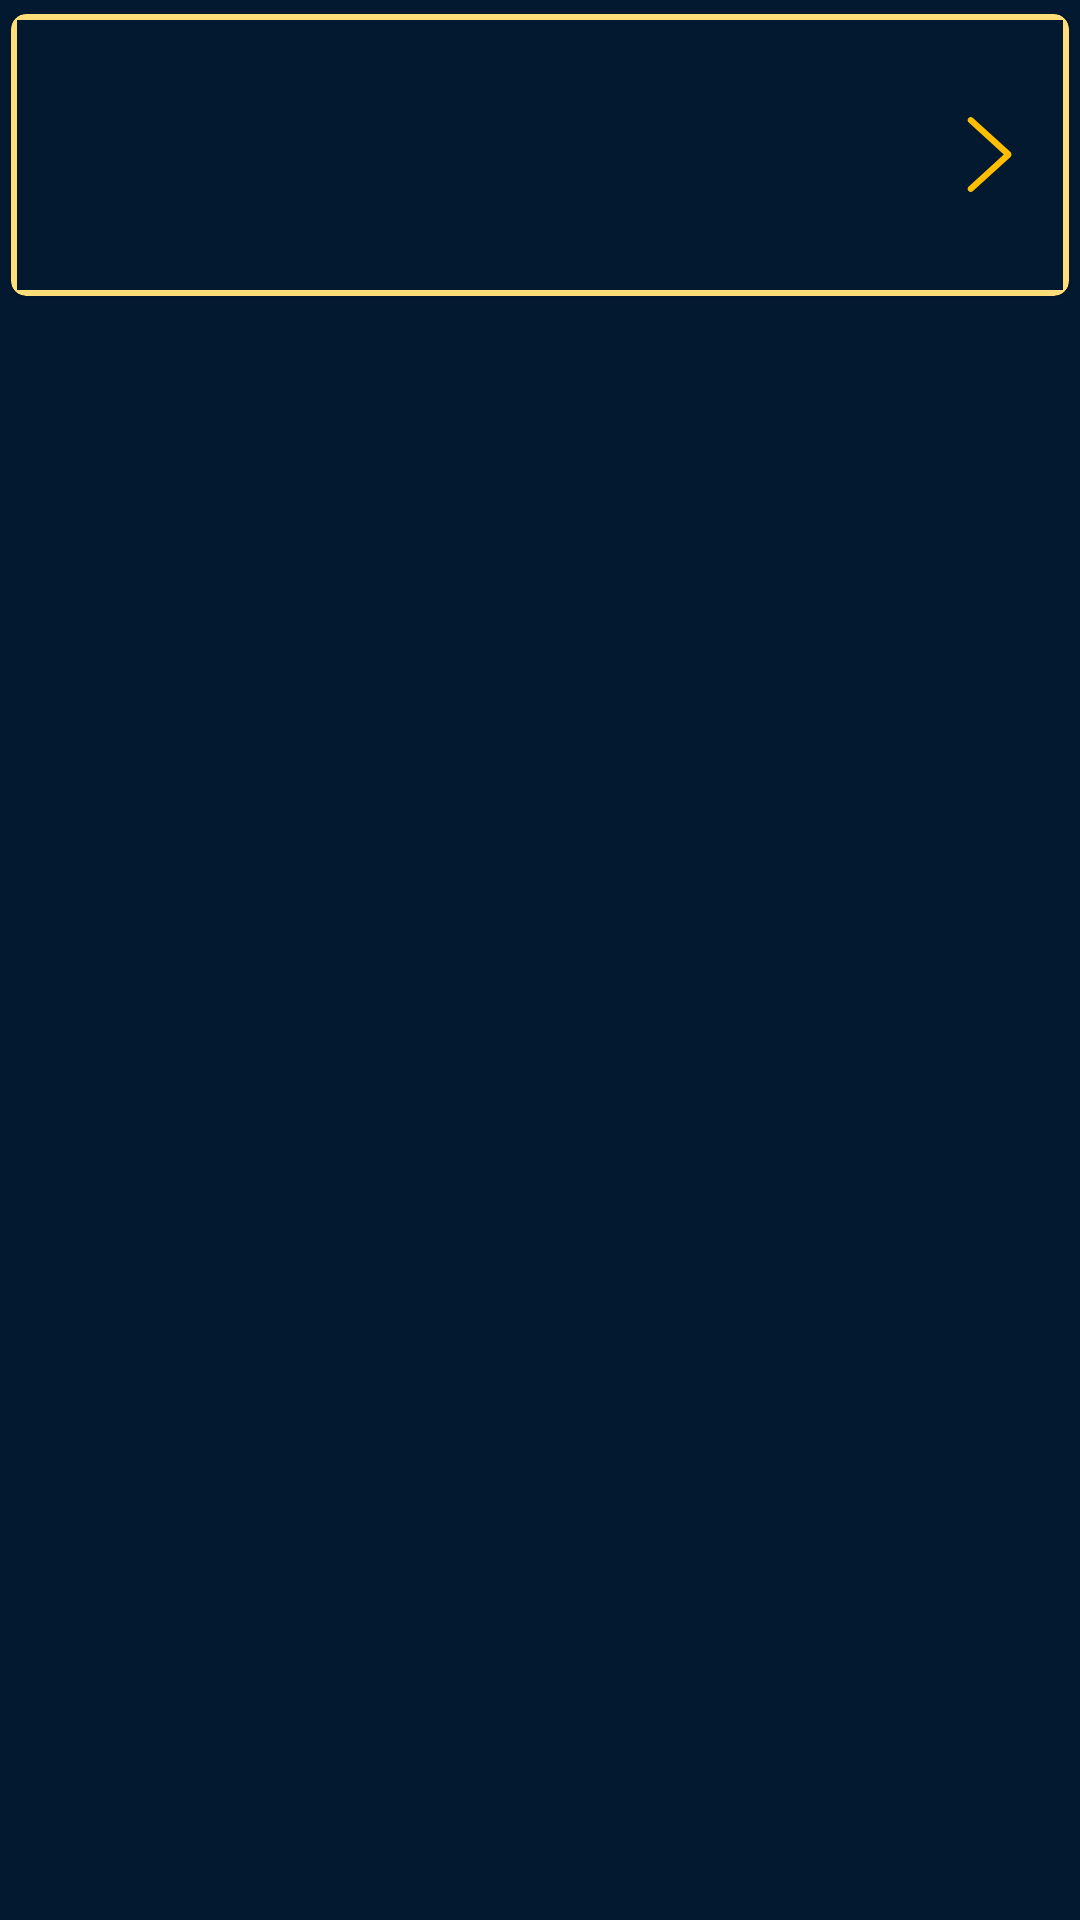

Screen size 1080px x 1920px. Icon name, then its box in pixels as (x1, y1, x2, y2):
right arrow: (967, 117, 1012, 192)
